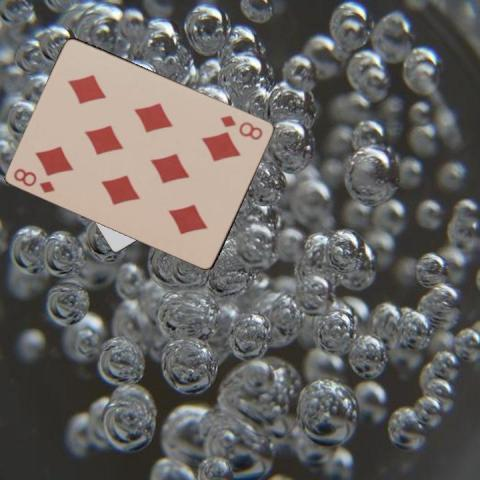8d: (217, 112, 265, 142), (10, 164, 56, 194)
